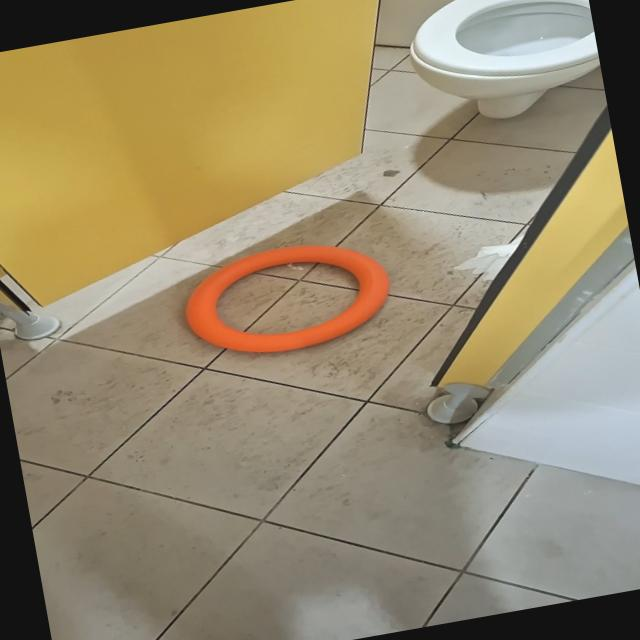note: (174, 228, 399, 368)
